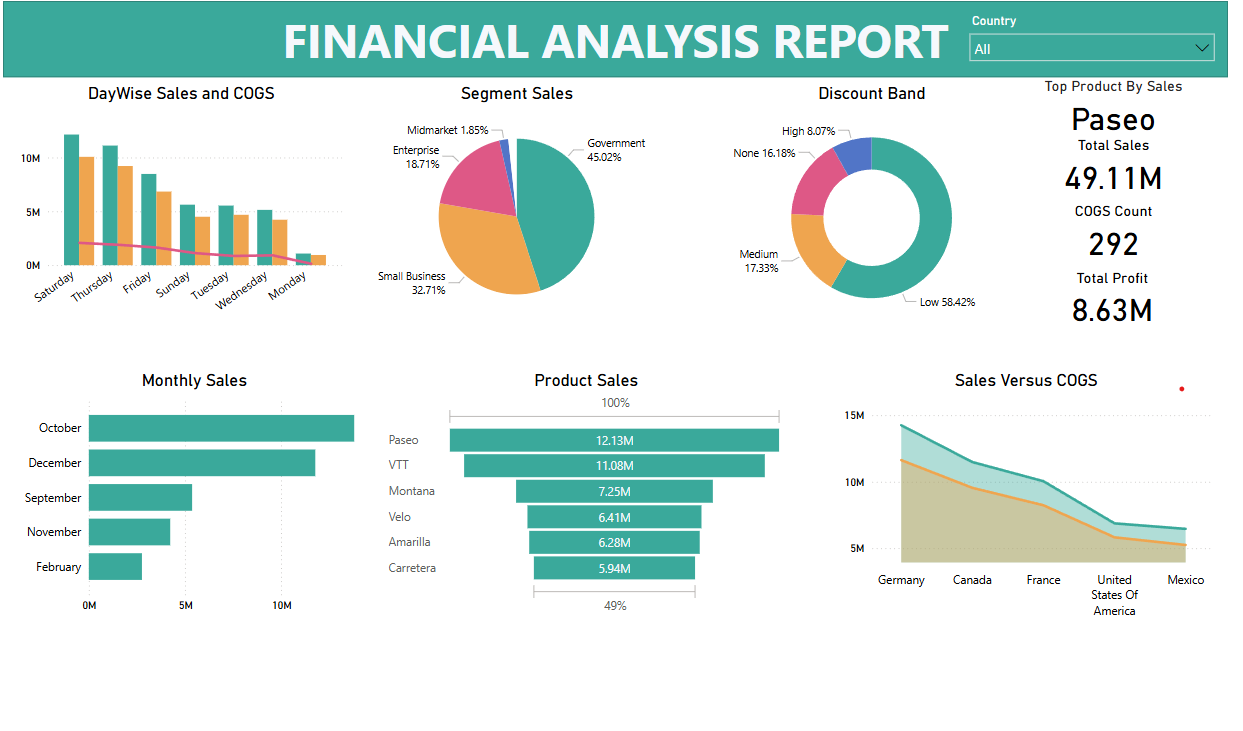

The page's visual inventory and layout, read from the dashboard file:
{"tool":"powerbi","page":{"name":"Page 1","canvas":[1400,720],"ordinal":0},"visuals":[{"type":"barChart","title":"Monthly Sales","fields":{"Category":["Finance_Data.Month Name"],"Y":["Sum(Finance_Data. Sales)"]},"box":[14.3,422.9,408.6,282.9],"z":0},{"type":"donutChart","title":"Discount Band","fields":{"Y":["Sum(Finance_Data. Sales)"],"Category":["Finance_Data.Discount Band"]},"box":[815.7,94.3,354.3,285.7],"z":1000},{"type":"pieChart","title":"Segment Sales","fields":{"Y":["Sum(Finance_Data. Sales)"],"Category":["Finance_Data.Segment"]},"box":[422.9,94.3,328.6,282.9],"z":2000},{"type":"areaChart","title":"Sales Versus COGS","fields":{"Category":["Finance_Data.Country"],"Y":["Sum(Finance_Data. Sales)","Sum(Finance_Data.COGS)"]},"box":[944.3,422.9,450,290],"z":3000},{"type":"lineClusteredColumnComboChart","title":"DayWise Sales and COGS ","fields":{"Category":["Finance_Data.Day Name"],"Y":["Sum(Finance_Data. Sales)","Sum(Finance_Data.COGS)"],"Y2":["Sum(Finance_Data.Profit)"]},"box":[14.3,94.3,378.6,282.9],"z":4000},{"type":"funnel","title":"Product Sales","fields":{"Category":["Finance_Data.Product"],"Y":["Sum(Finance_Data. Sales)"]},"box":[435.7,422.9,461.4,282.9],"z":5000},{"type":"card","title":"Top Product By Sales","fields":{"Values":["Min(Finance_Data.Product)"]},"box":[1154.3,87.1,230,70],"z":6000},{"type":"card","title":"Total Sales","fields":{"Values":["Sum(Finance_Data. Sales)"]},"box":[1154.3,154,230,70],"z":7000},{"type":"card","title":"Total Profit","fields":{"Values":["Sum(Finance_Data.Profit)"]},"box":[1152.9,305.7,230,70],"z":8000},{"type":"card","title":"COGS Count","fields":{"Values":["CountNonNull(Finance_Data.COGS)"]},"box":[1154.3,229.9,230,70],"z":9000},{"type":"shape","box":[0,0,1400,87.1],"z":10000},{"type":"slicer","fields":{"Values":["Finance_Data.Country"]},"box":[1094.3,8.6,300,72.9],"z":11000}]}

Visuals, with their boxes on the page's 1400x720 design canvas (x1, y1, x2, y2). These are canvas units, not pixel positions in the 1243x731 screenshot, which may show the page scaled, cropped or inside an application window:
"Monthly Sales" barChart: Rect(14, 423, 423, 706)
"Discount Band" donutChart: Rect(816, 94, 1170, 380)
"Segment Sales" pieChart: Rect(423, 94, 752, 377)
"Sales Versus COGS" areaChart: Rect(944, 423, 1394, 713)
"DayWise Sales and COGS " lineClusteredColumnComboChart: Rect(14, 94, 393, 377)
"Product Sales" funnel: Rect(436, 423, 897, 706)
"Top Product By Sales" card: Rect(1154, 87, 1384, 157)
"Total Sales" card: Rect(1154, 154, 1384, 224)
"Total Profit" card: Rect(1153, 306, 1383, 376)
"COGS Count" card: Rect(1154, 230, 1384, 300)
shape: Rect(0, 0, 1400, 87)
slicer - Finance_Data.Country: Rect(1094, 9, 1394, 82)
